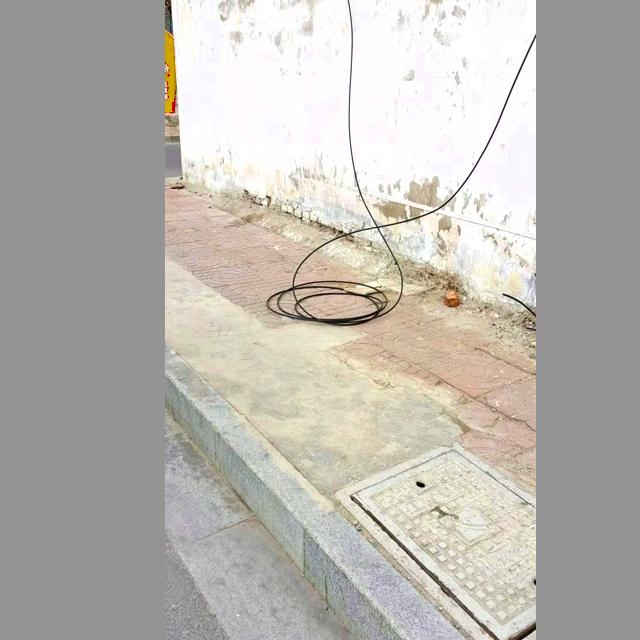good: (336, 441, 536, 640)
